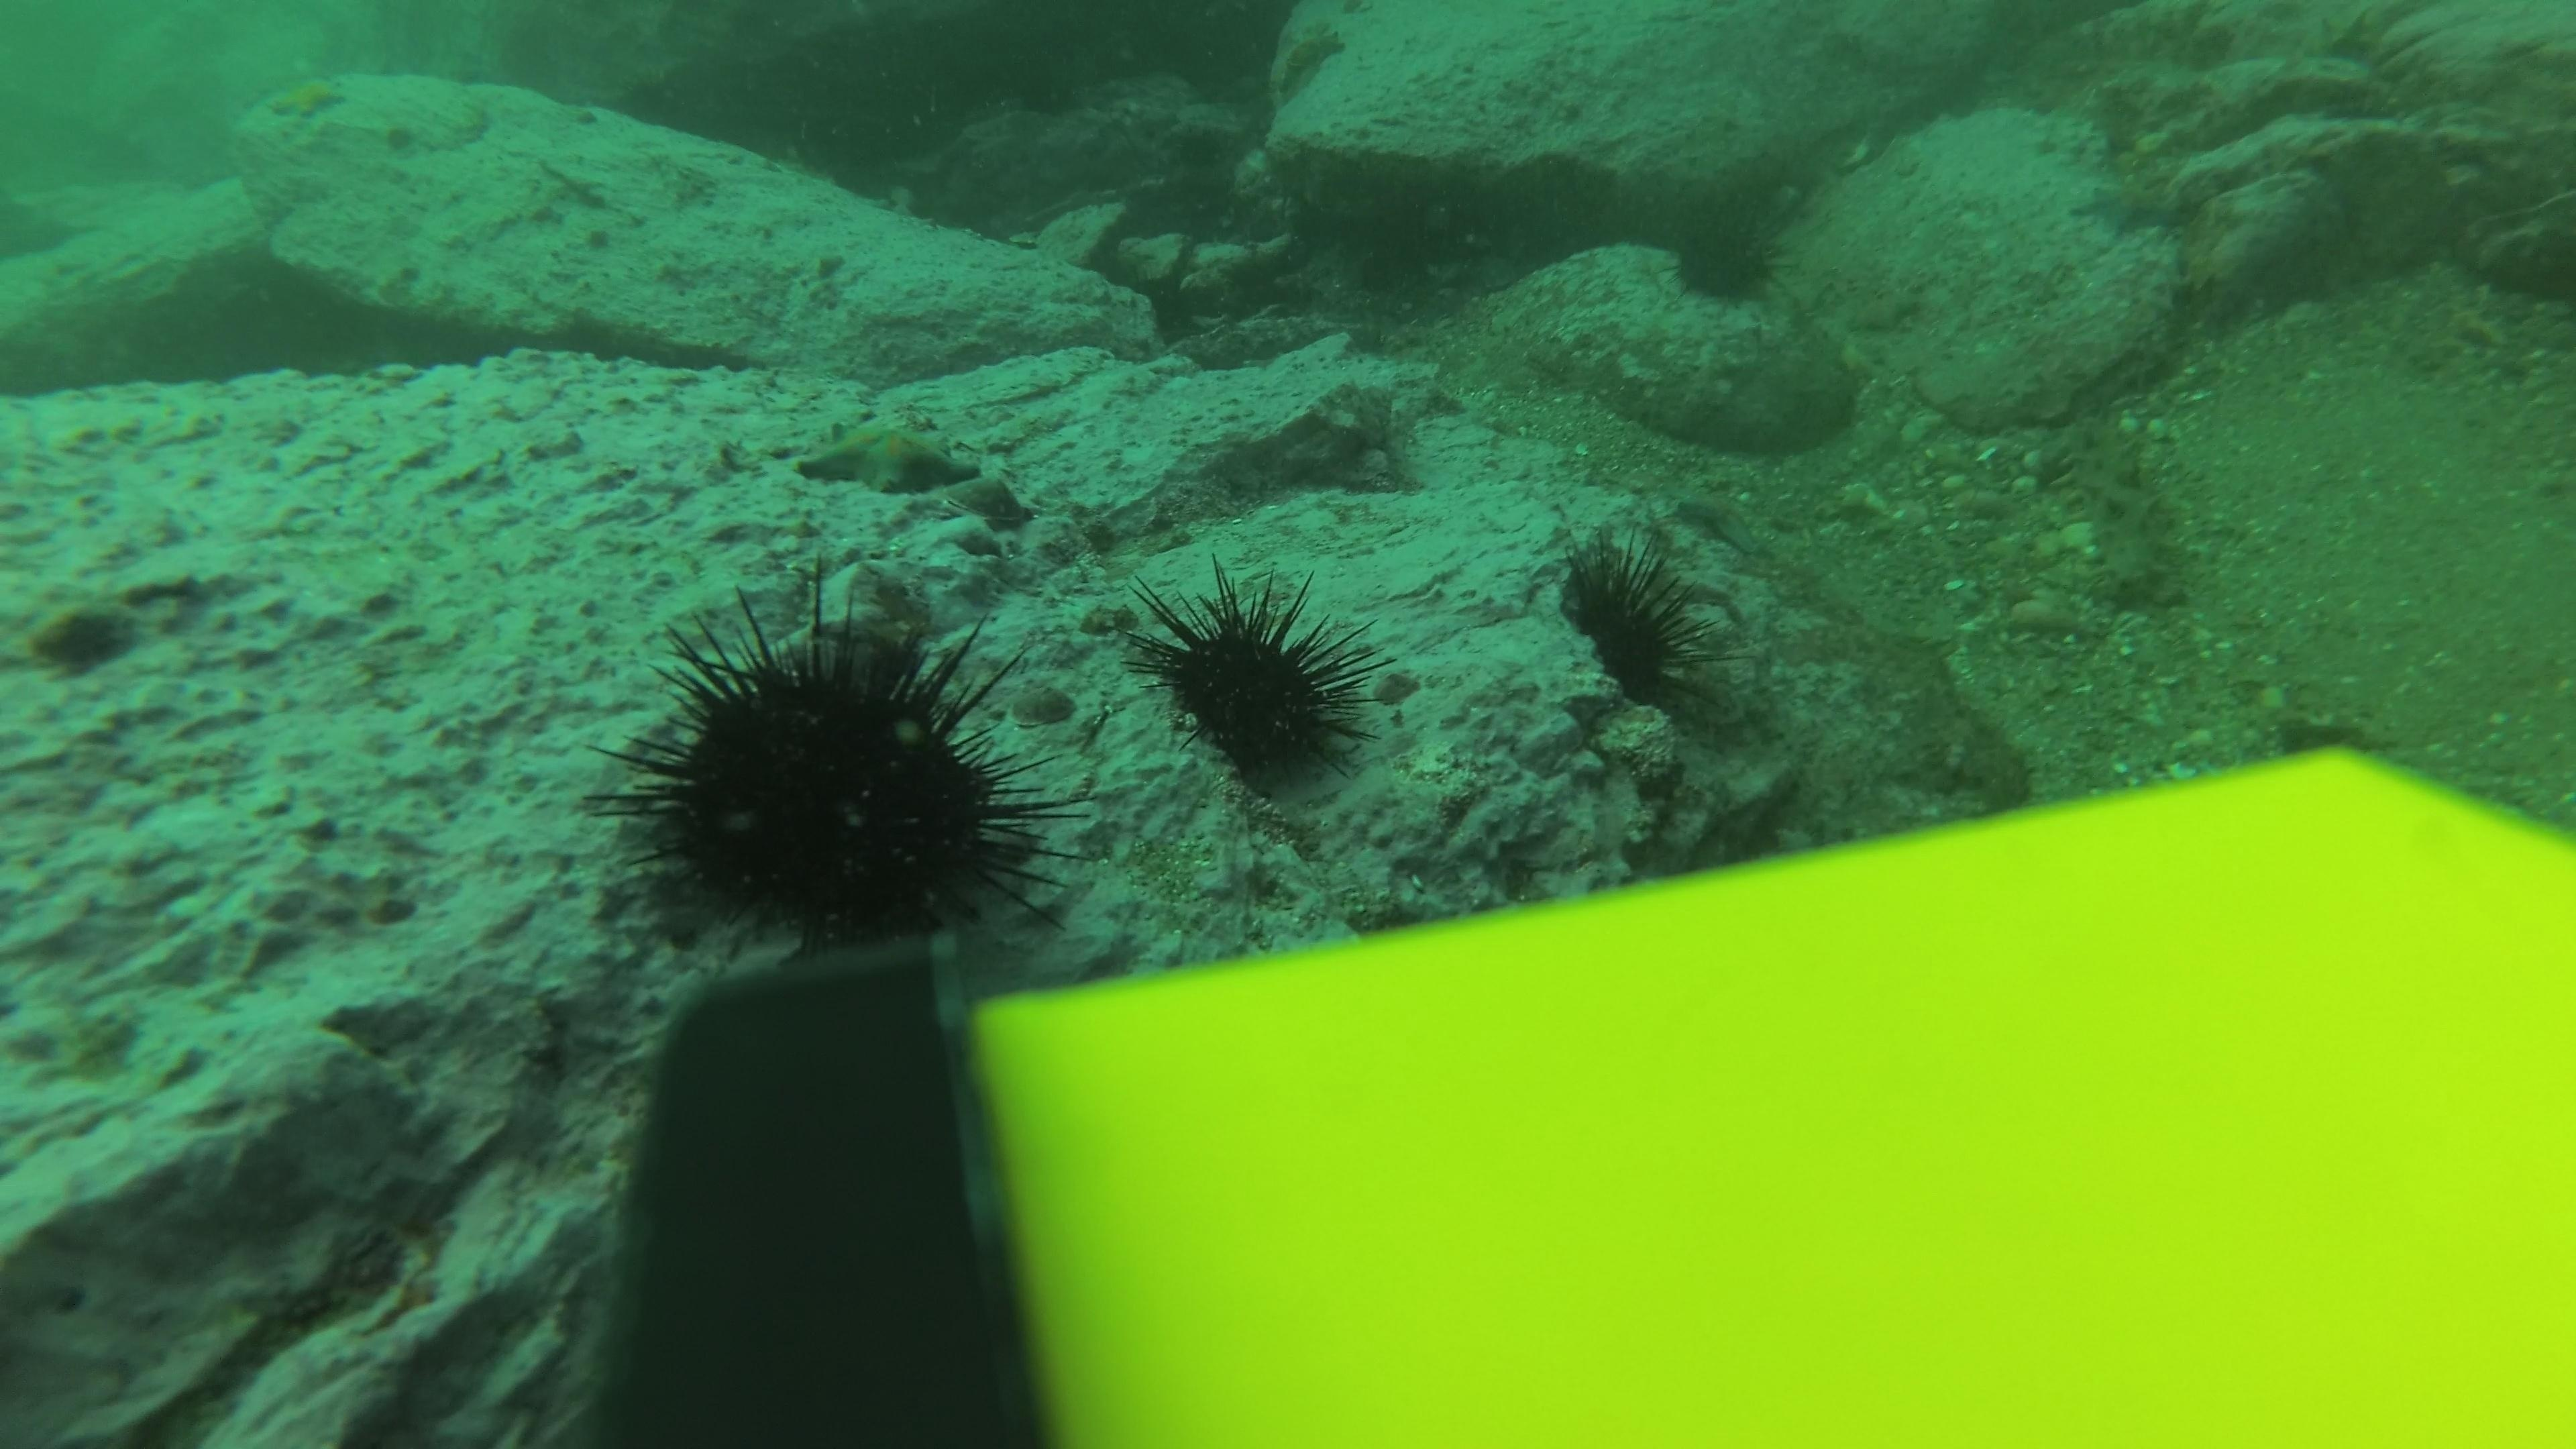echinus: (603, 593, 1067, 957), (1127, 563, 1382, 796), (1548, 529, 1721, 715), (1658, 196, 1790, 310)
holothurian: (2051, 409, 2201, 616)
starfish: (787, 418, 991, 499), (2072, 173, 2187, 241), (1263, 14, 1352, 101), (1665, 485, 1767, 556), (255, 69, 352, 126)
